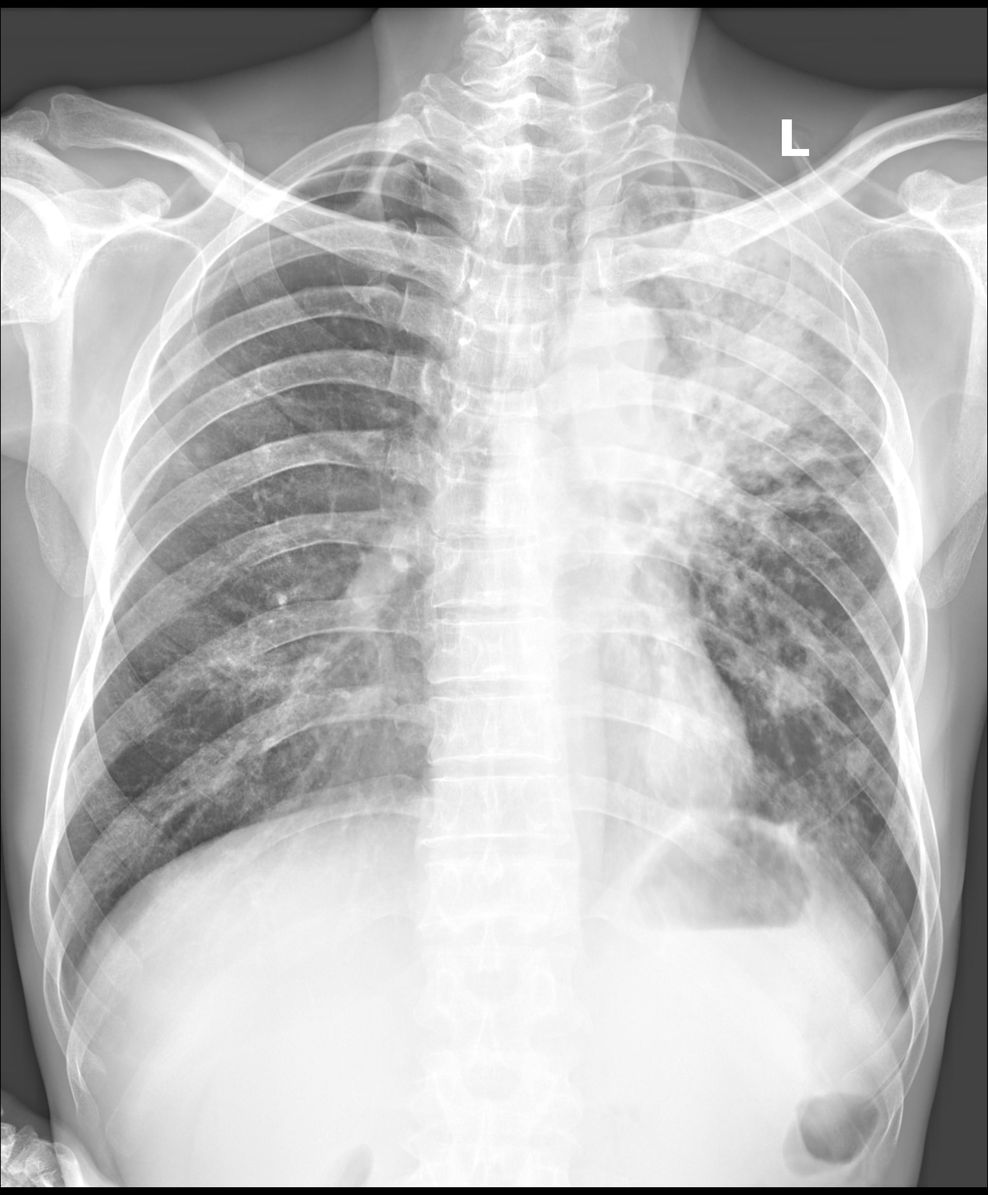Pulmonary fibrosis: (651, 200, 900, 790)
